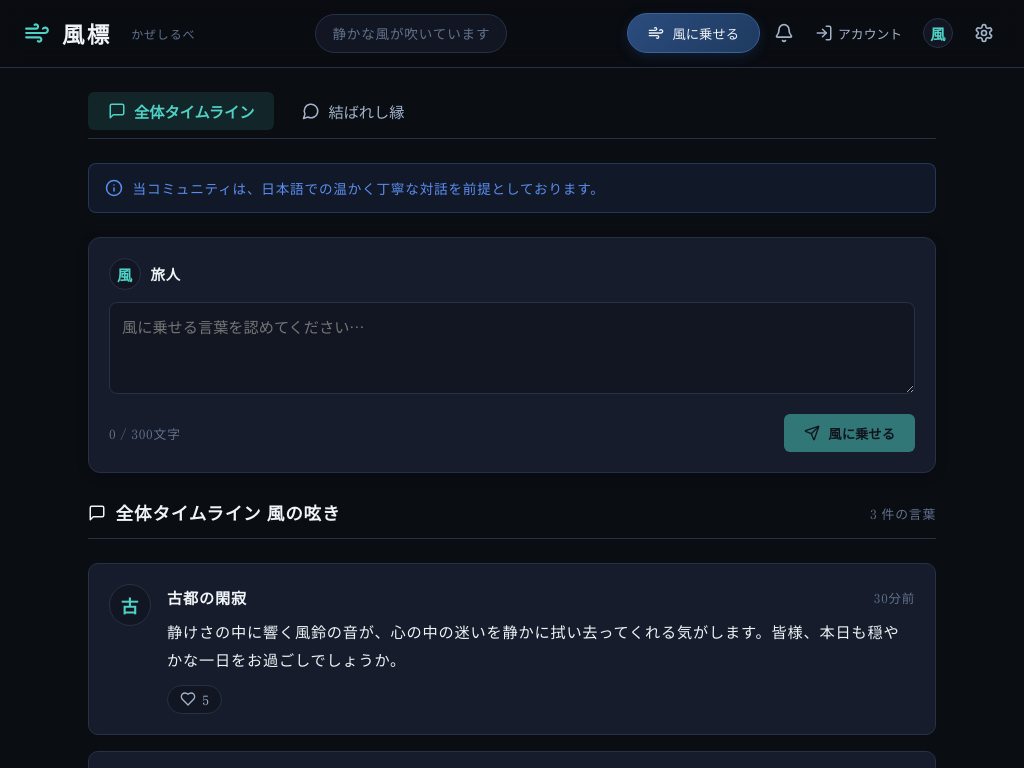
Test case: アプリケーション統合動作テスト › 「風に乗せる」マッチングを開始し、チャット画面へ遷移できる
Click the button "風に乗せる" next to "静かな風が吹いています" at (694, 33), box [627, 13, 760, 54]
Wait 3000 ms
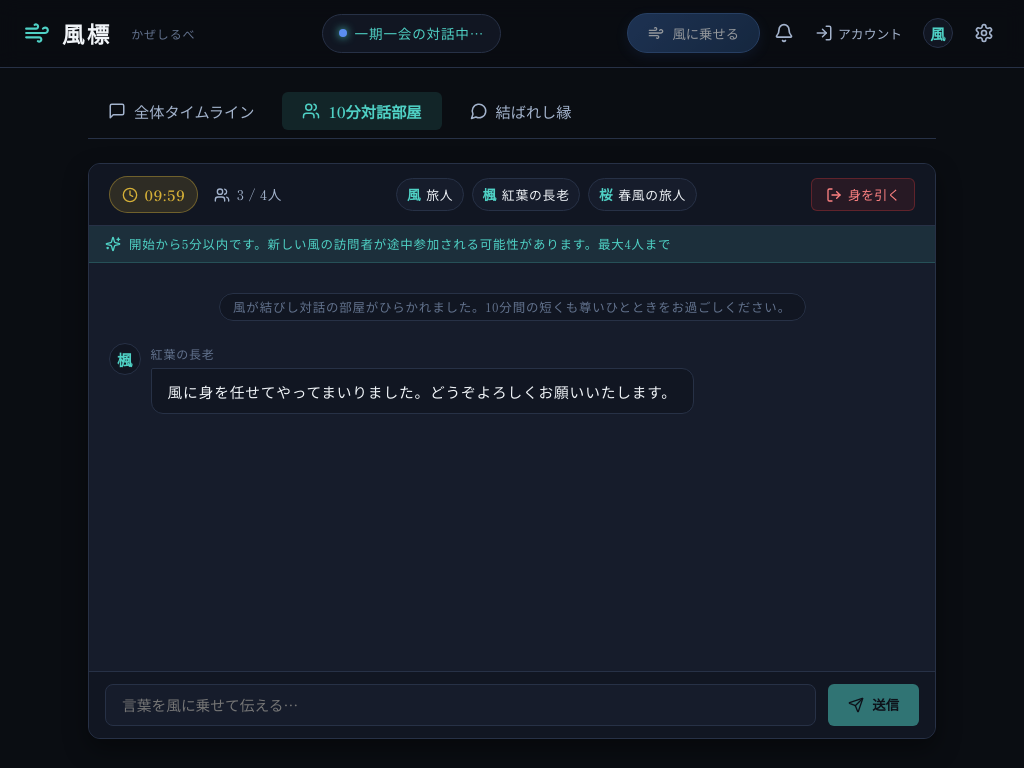
Expected: the text "誰かを待っています…" is shown, [355, 21, 484, 46]
Expected: the button "10分対話部屋" is shown, [282, 92, 442, 130]
Expected: the text "紅葉の長老" in the row of "春風の旅人" is shown, [502, 185, 570, 204]
